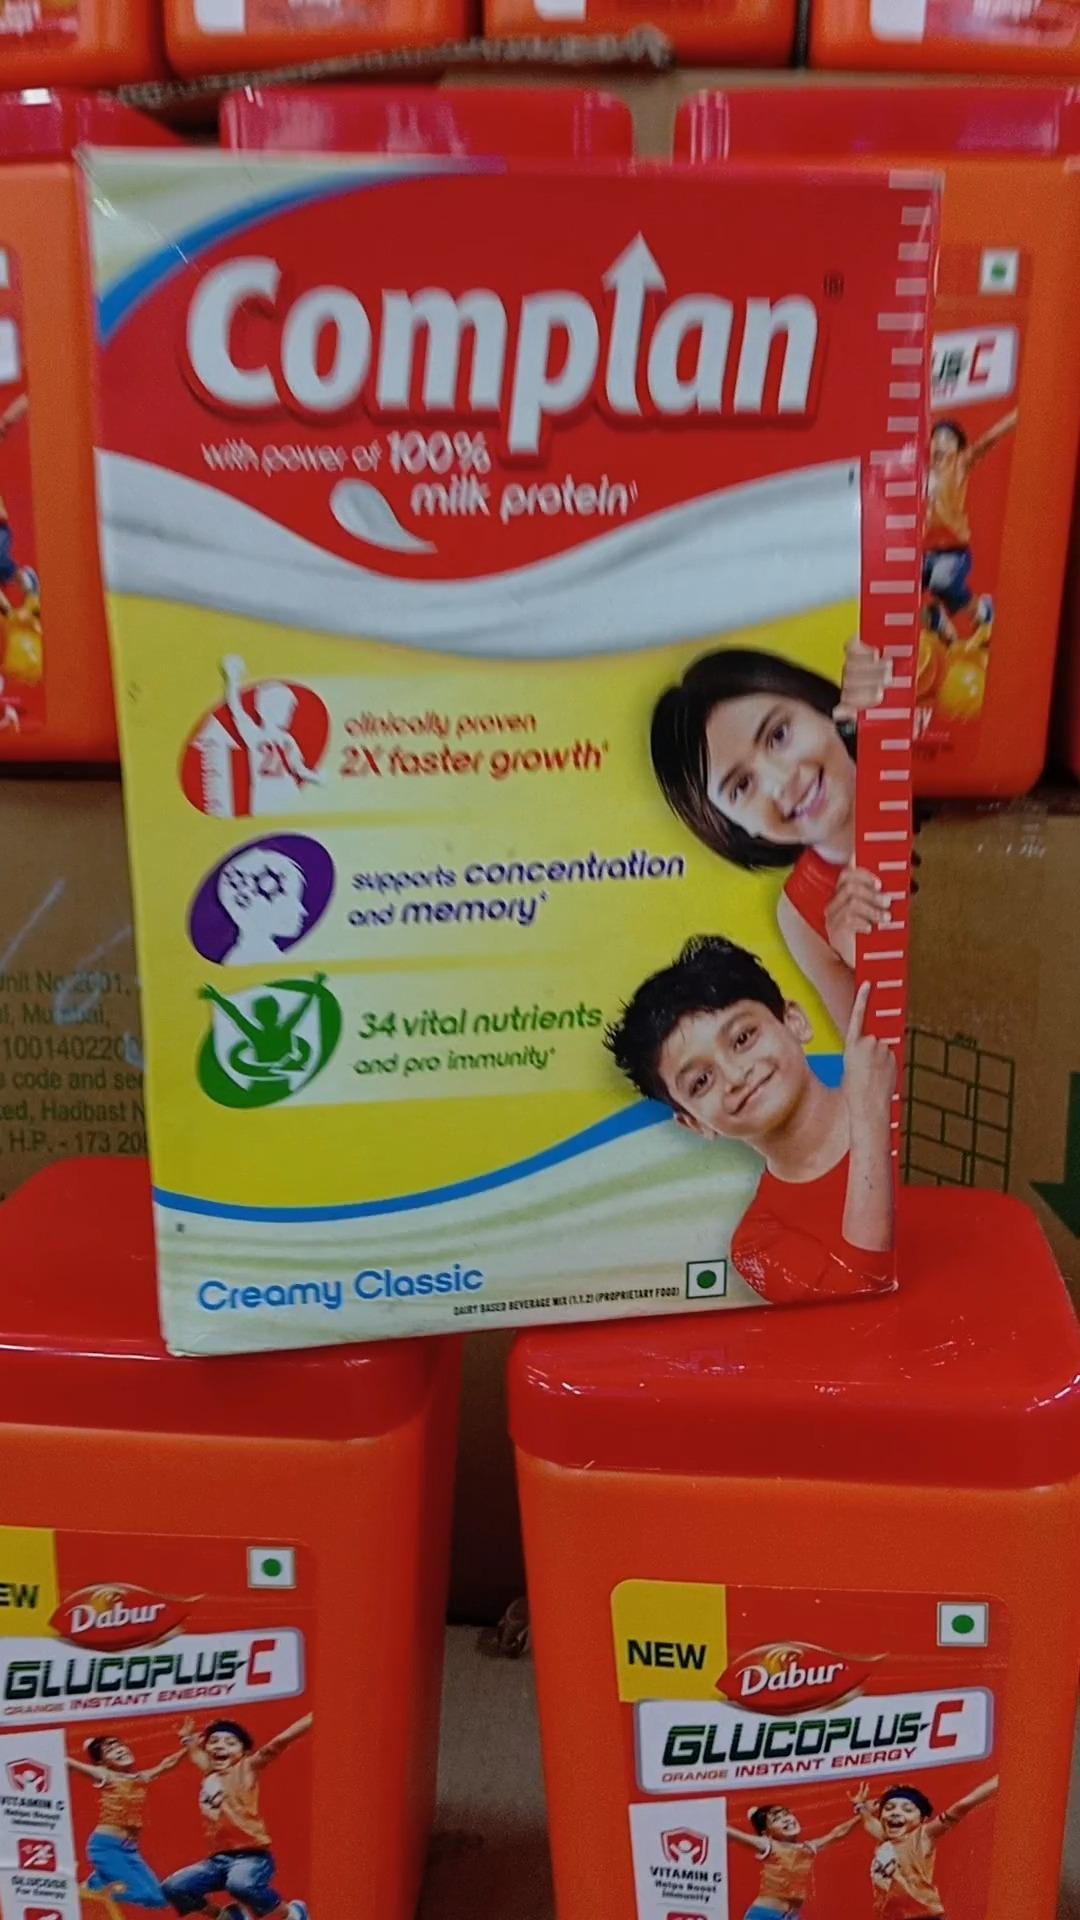COMPLAN_CREAMY_CLASSIC_500_G_PACK: (109, 140, 910, 1325)
